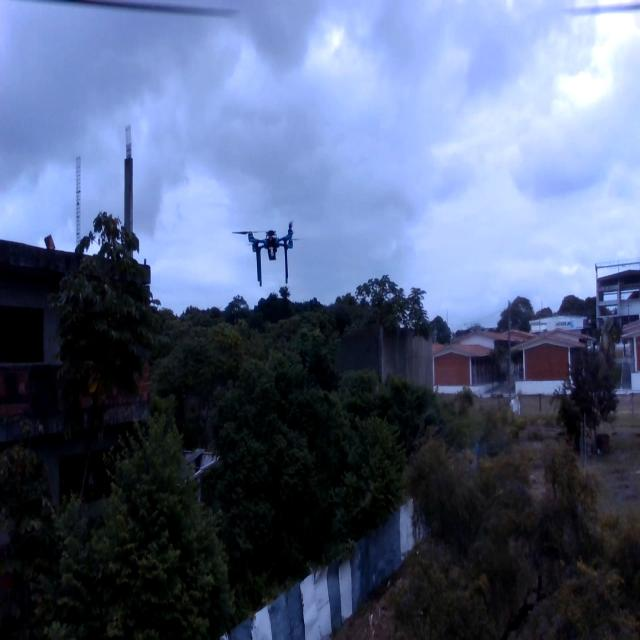-uav-: (228, 206, 306, 301)
